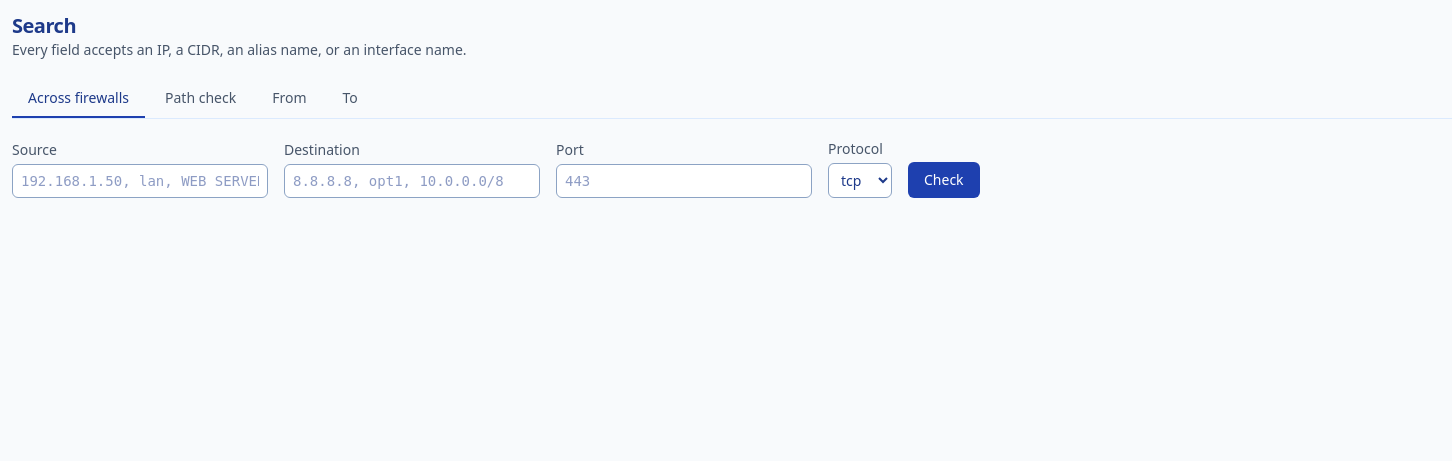
it: SearchPage › does not present a partial answer as a pass
This screenshot has width=1452, height=461.
Step 1. Click the tab "Path check" → (201, 99), box [149, 80, 252, 118]
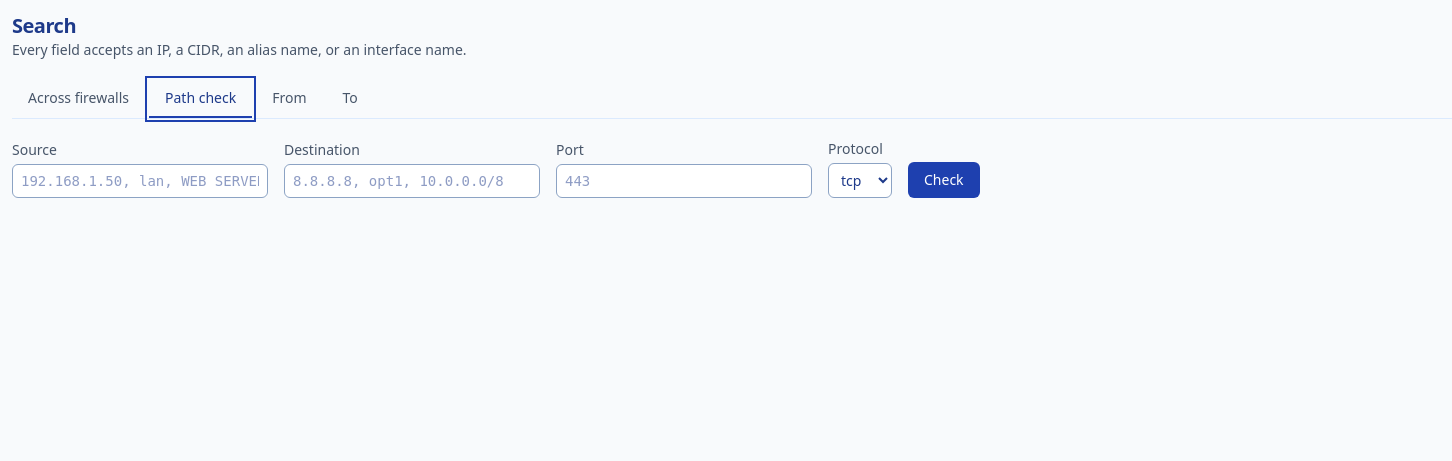
Step 2. Type "192.168.1.50" into the field labelled "Source" → (140, 181), box [12, 164, 268, 198]
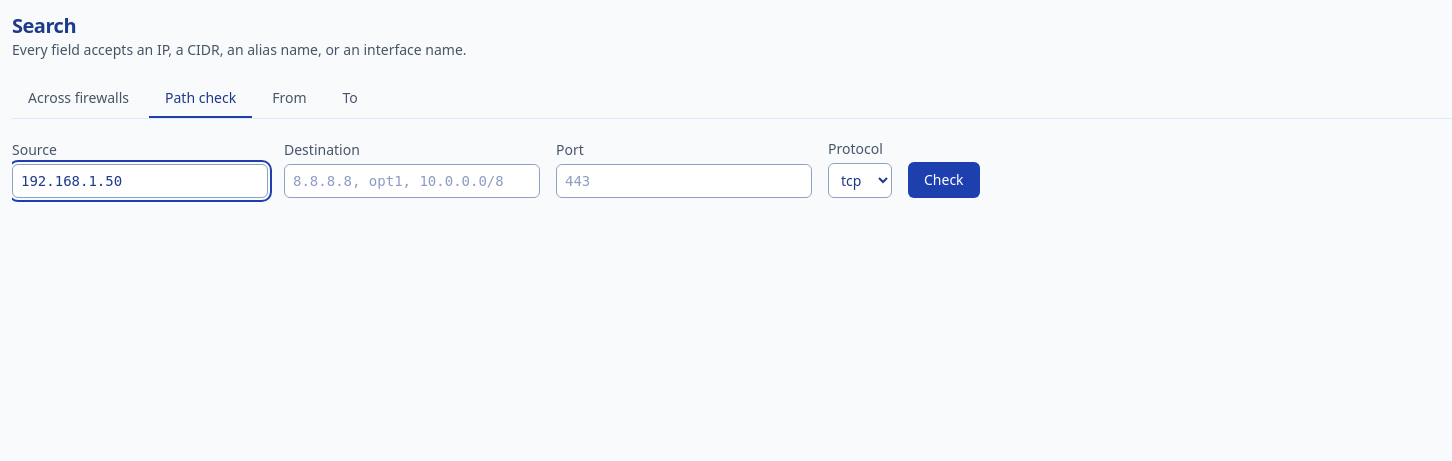
Step 3. Type "8.8.8.8" into the field labelled "Destination" → (412, 181), box [284, 164, 540, 198]
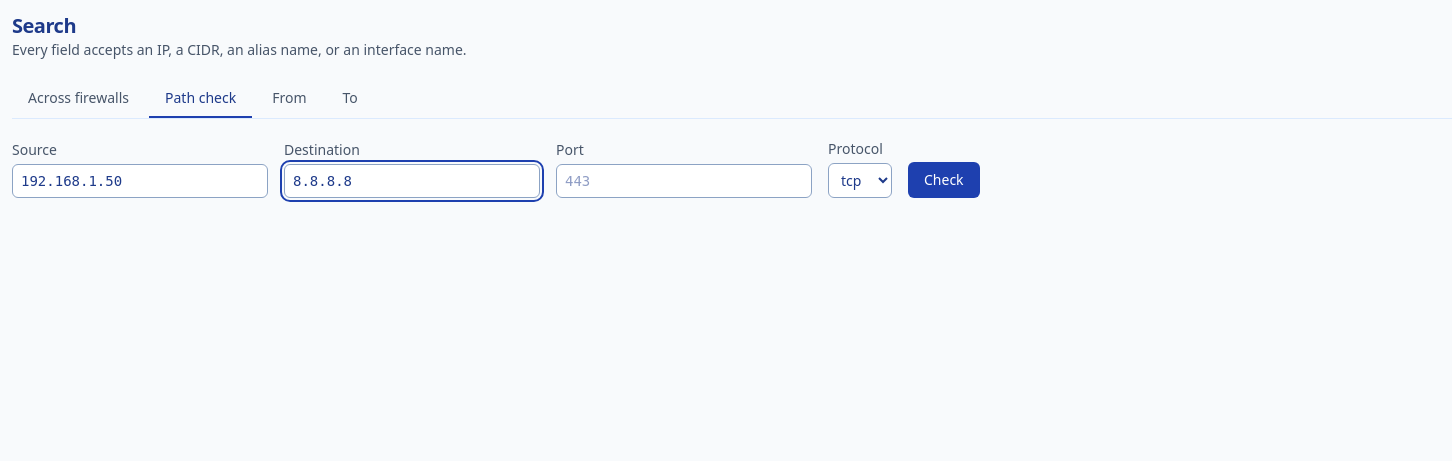
Step 4. Click the button "Check" → (944, 180), box [908, 162, 980, 198]
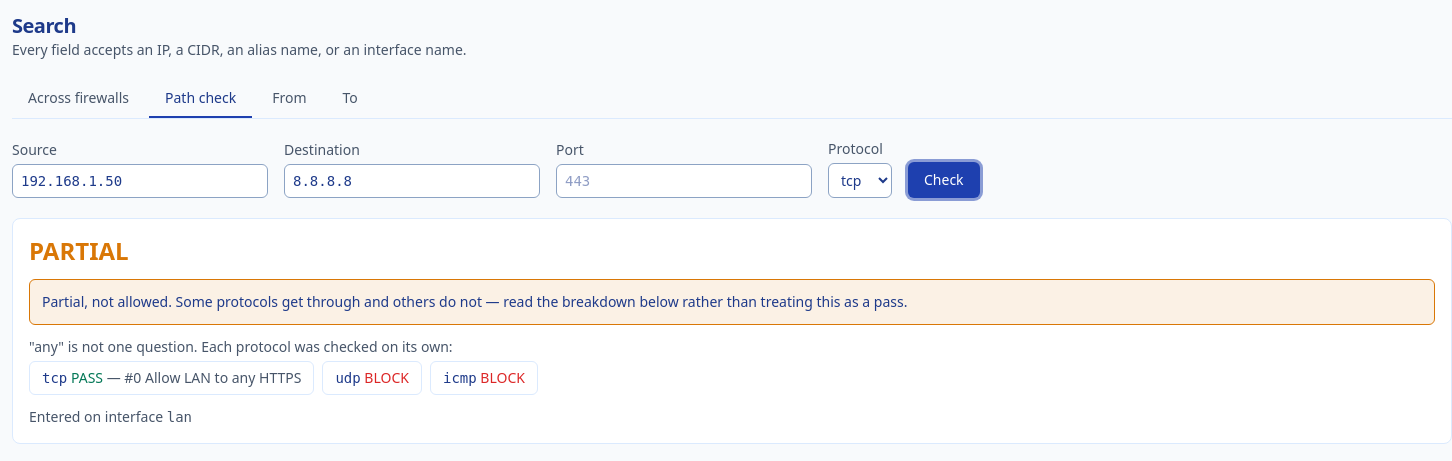
Expected: the text "Partial, not allowed." is shown, [42, 292, 172, 311]
Expected: the text "partial" is shown, [29, 234, 129, 267]
Expected: the list item "udp" shows "block", [364, 368, 409, 387]
